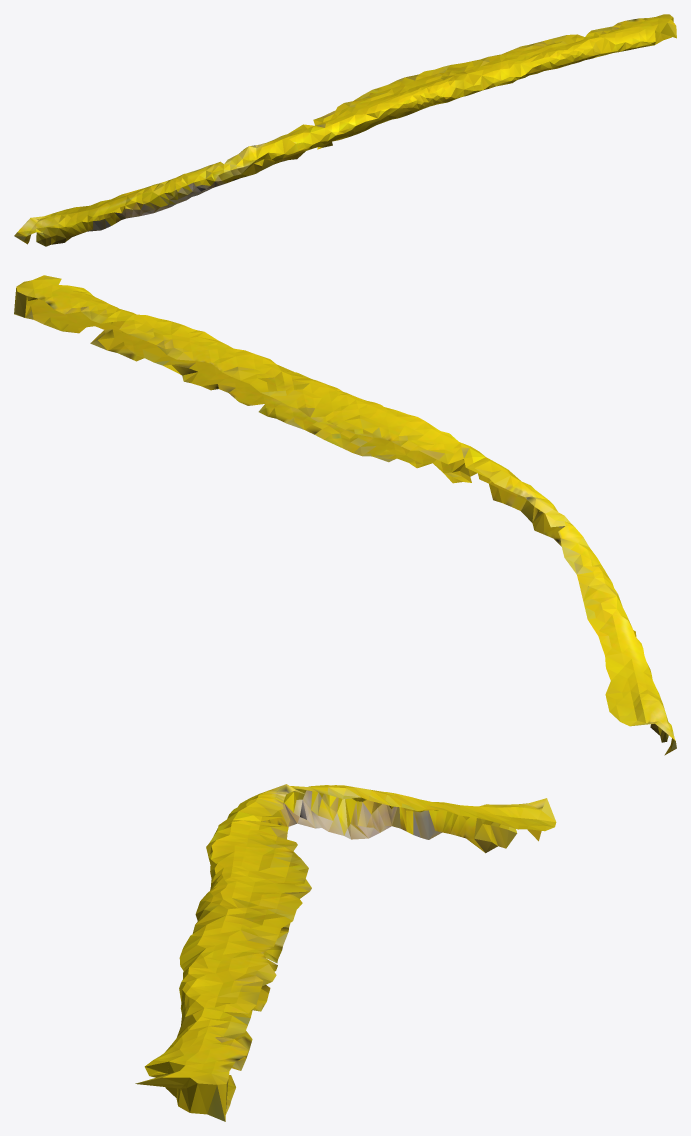
3 renders of one model, top to bottom at view 1: azimuth 30°, elevation 25°; view 2: azimuth 150°, elevation 25°; view 3: azimuth 270°, elevation 25°, orthographic. The views are drawn at different scales.
Parts seen in each view (by area): view 1: link1; view 2: link1; view 3: link1.
Part boxes in pixels (x1,y1,x2,y2): link1: (14, 14, 676, 246); link1: (14, 275, 676, 755); link1: (135, 784, 556, 1121).
Size of the model in its own units: 0.108 by 0.0277 by 0.0344.
1 material, 1 textured.
